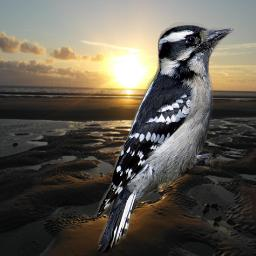Woodpecker: (95, 21, 234, 256)
